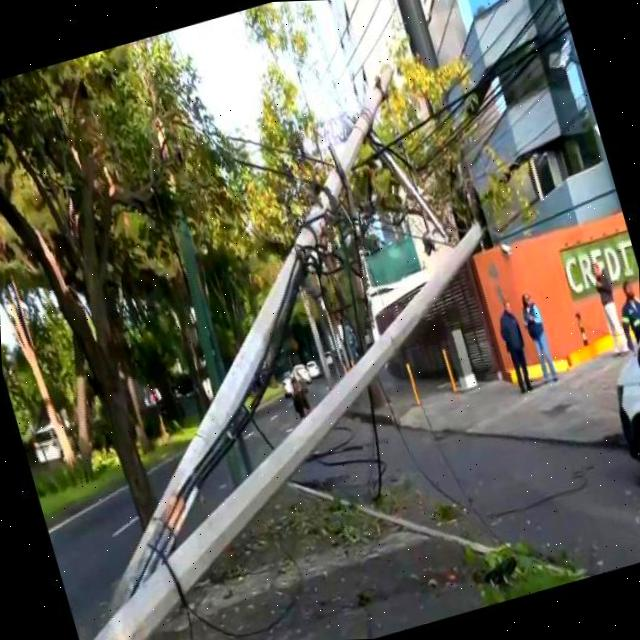Broken Pole: (89, 216, 483, 640), (110, 62, 391, 607)
